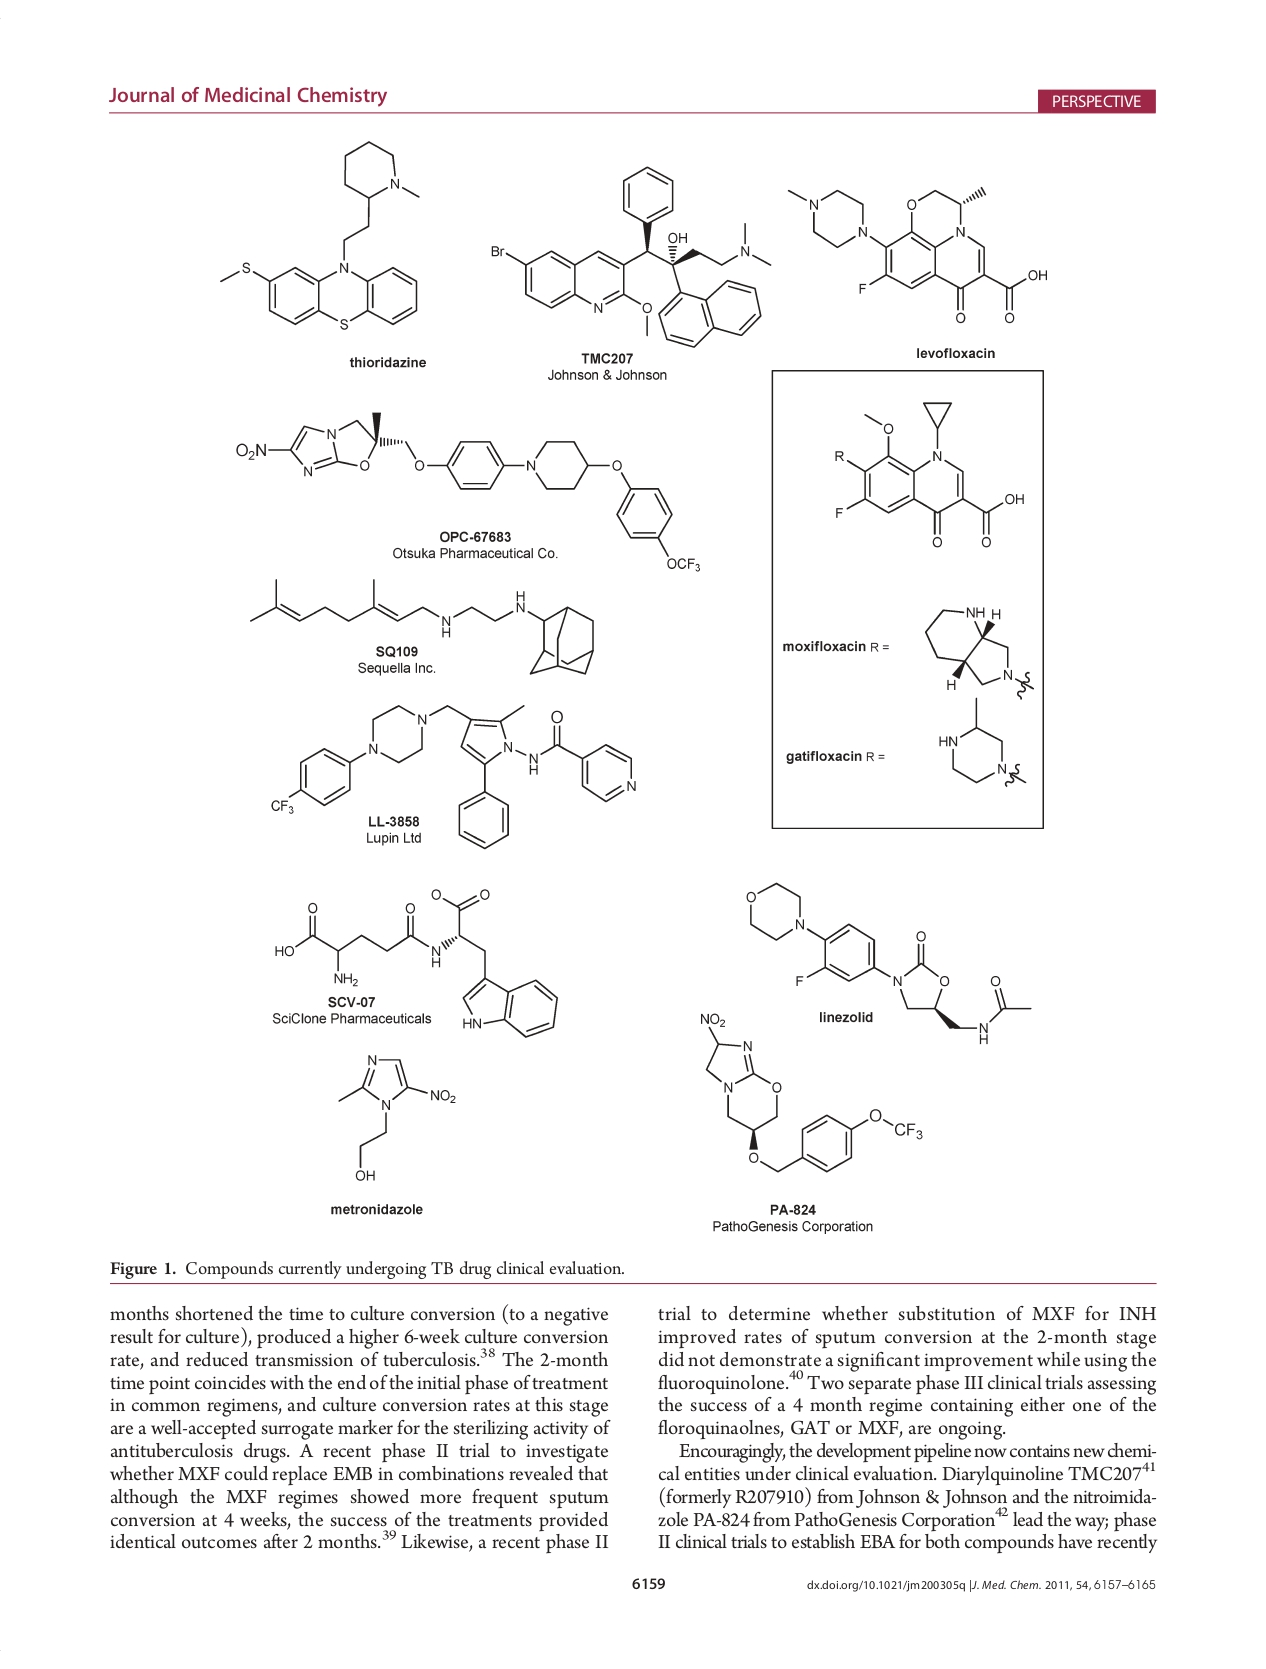exist_molecular: (234, 408, 703, 571), (269, 704, 640, 850), (488, 165, 775, 350), (739, 876, 1033, 1048), (273, 884, 561, 1041), (215, 140, 422, 332), (783, 184, 1052, 327), (696, 1009, 923, 1174), (245, 575, 596, 678), (830, 398, 1029, 552), (336, 1051, 457, 1184), (922, 600, 1037, 701), (935, 696, 1027, 791)
